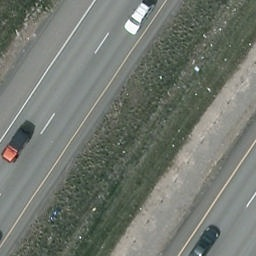car: (122, 1, 155, 36), (186, 224, 219, 256)
pickup: (1, 130, 32, 163)
